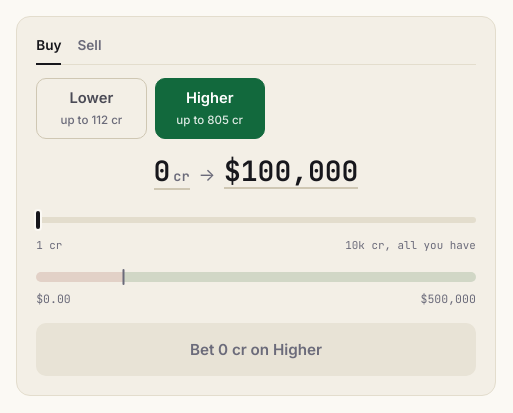
Test: the ticket opens composed › the other side is one press, and the confirm follows it
Click the button "Lower up to 112 cr" at (91, 109), box [36,78,146,139]
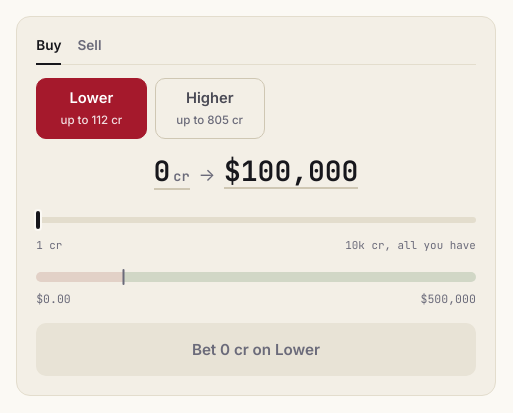
Now the button "Bet 0 cr on Lower" is shown, box [36,323,476,376]
